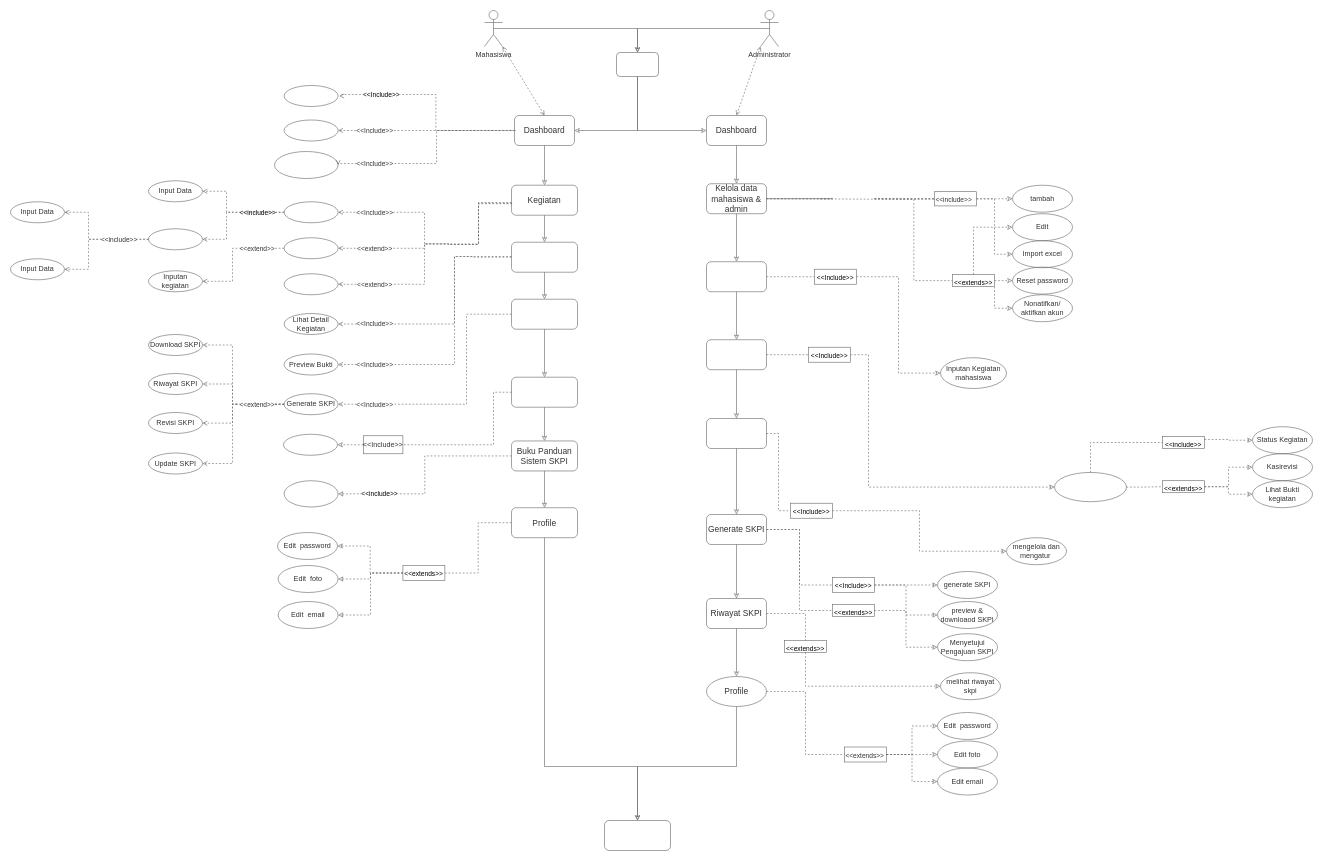
Image size: 1323x861. Some labels were removed from this diagram. Here are the shapes that lost their labels. From the top down, the centre of each, then its label:
At point (637, 64): "Login".
At point (311, 95): "Statistik kegiatan".
At point (311, 130): "Lihat Notifikasi".
At point (306, 164): "Lihat Riwayat Kegiatan Terbaru".
At point (311, 212): "Tambah Kegiatan".
At point (175, 239): "Upload Bukti Kegiatan".
At point (311, 248): "Edit Kegiatan".
At point (544, 257): "Riwayat Kegiatan".
At point (311, 284): "Hapus Kegiatan".
At point (736, 276): "Kelola master data".
At point (544, 314): "Pengajuan SKPI".
At point (736, 354): "Kelola kegiatan".
At point (544, 392): "ICP".
At point (310, 444): "Statistik ICP".
At point (736, 433): "Kelola template SKPI".
At point (311, 493): "Rule Book System SKPI".
At point (1090, 487): "Verifikasi Kegiatan Mahasiswa".
At point (637, 835): "LogOut".
